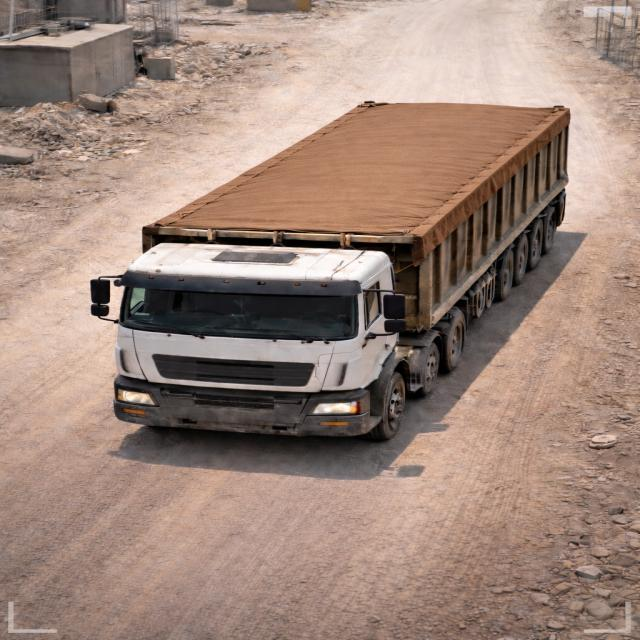Box: (136, 100, 572, 240)
Truck: (88, 100, 568, 442)
